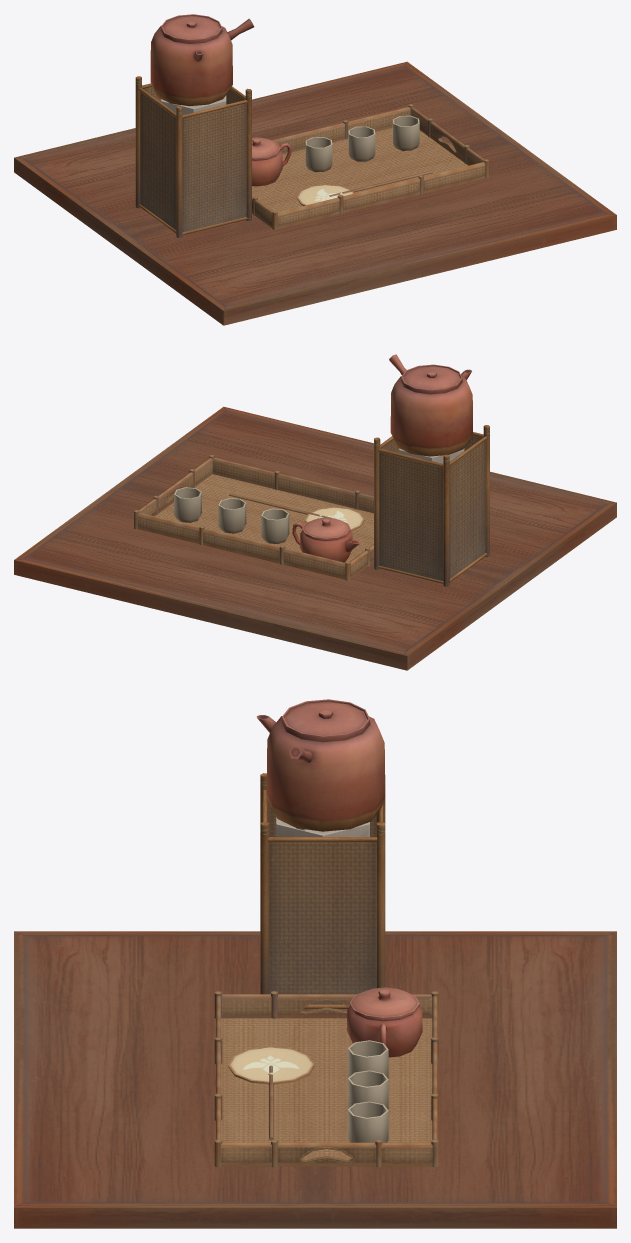
The model's file is Furniture_02_a.FBX.
The picture shows the model from 3 angles, top to bottom: view 1: azimuth 30°, elevation 25°; view 2: azimuth 150°, elevation 25°; view 3: azimuth 270°, elevation 25°; orthographic projection. The views are drawn at different scales.
Parts seen in each view (by area): view 1: Furniture_02_a; view 2: Furniture_02_a; view 3: Furniture_02_a.
Part boxes in pixels (<box>): Furniture_02_a: <box>14,14,616,325</box>; Furniture_02_a: <box>14,354,616,670</box>; Furniture_02_a: <box>14,699,616,1228</box>.
Bounding box in the file's own units: 127 × 117 × 63.14.
